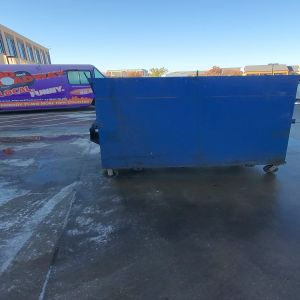Dumpster: (89, 77, 300, 182)
